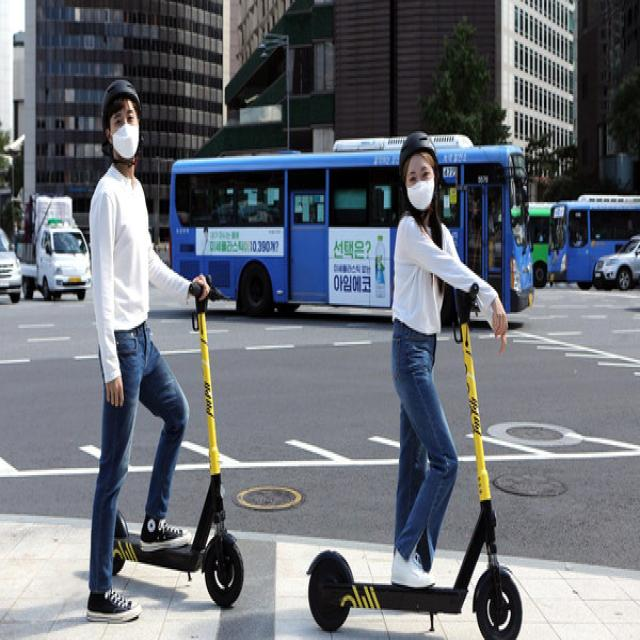helmet: (293, 92, 540, 640), (61, 54, 259, 628)
